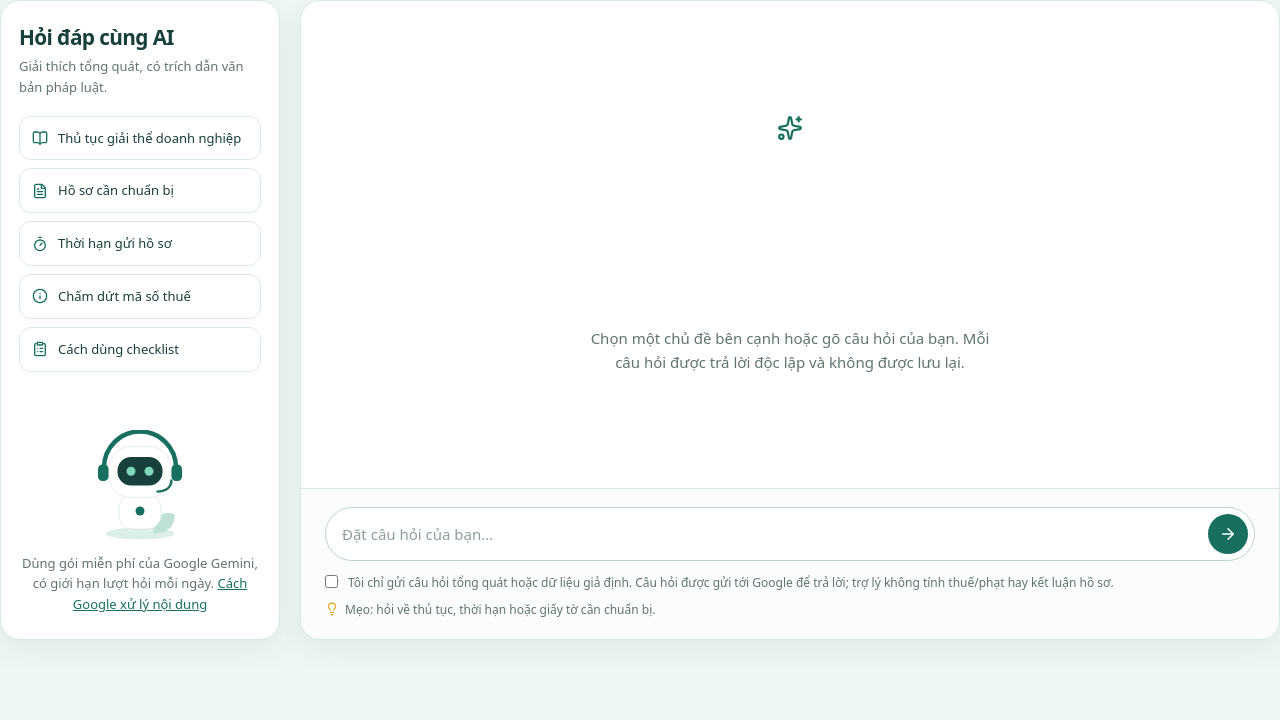
Scenario: Trợ lý có nguồn › kiểm tra đường dẫn nguồn product javascript:alert(1) trước khi mở
Type "Tôi dùng checklist thế nào?" into the field labelled "câu hỏi của bạn" at (770, 534), box [342,514,1198,554]
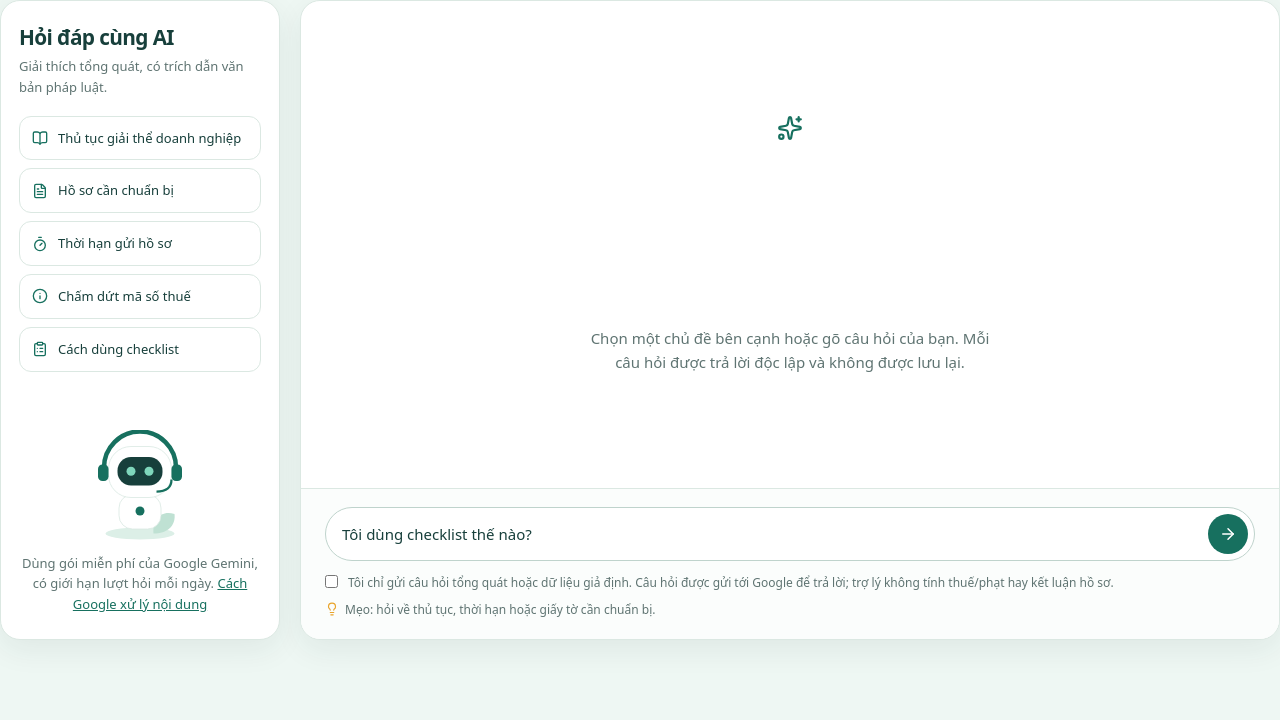
Click the checkbox at (332, 581), box [325,575,338,588]
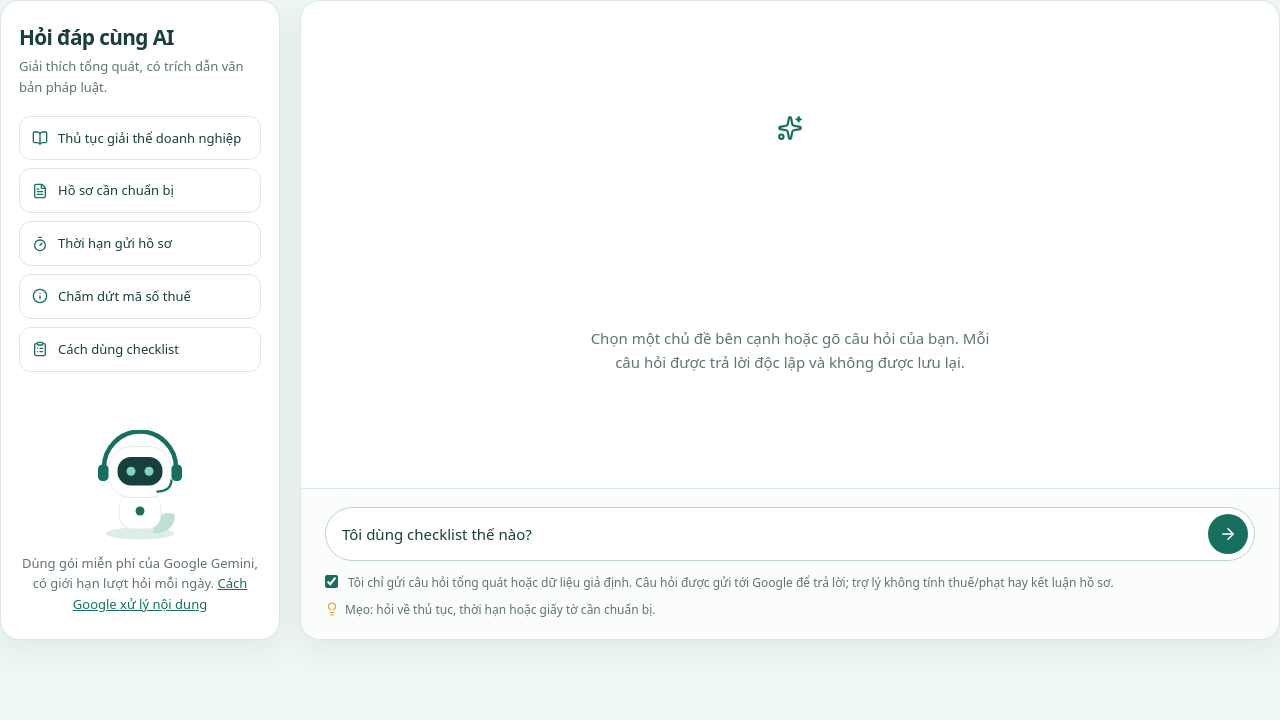
Click the button named "Gửi câu hỏi" at (1228, 534), box [1208,514,1248,554]
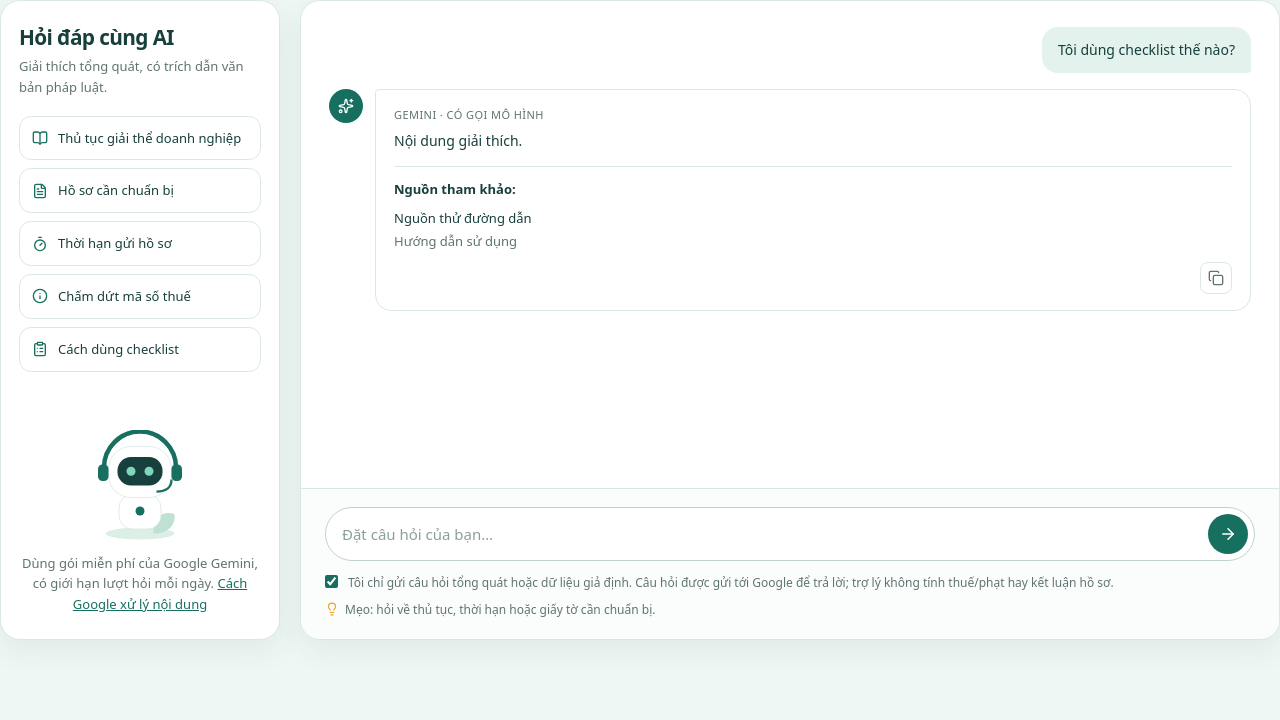
Check: the text "Nội dung giải thích." is shown, box [394,131,522,150]
